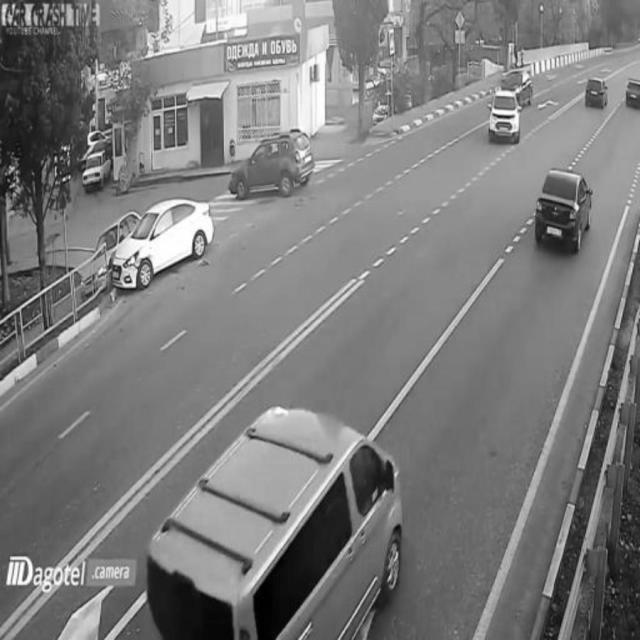accident: (82, 199, 208, 297)
vehicle: (162, 392, 403, 640), (231, 125, 319, 203), (535, 164, 593, 255), (485, 90, 522, 144), (502, 62, 539, 104), (79, 151, 113, 193), (583, 71, 609, 111), (621, 65, 640, 115)
